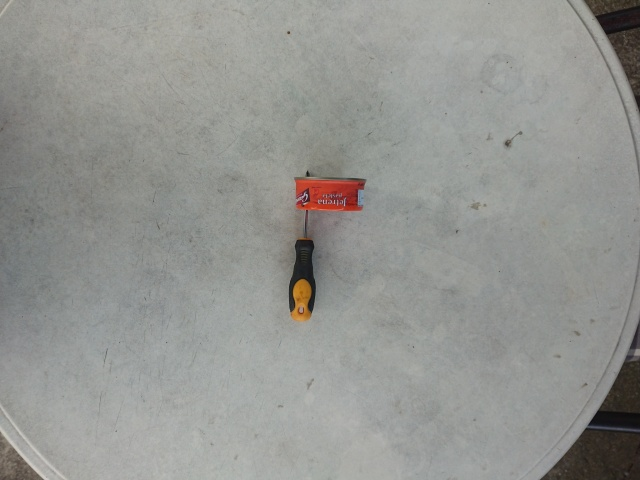Gavrilovic Pork Liver Pate 100g: (292, 174, 367, 212)
